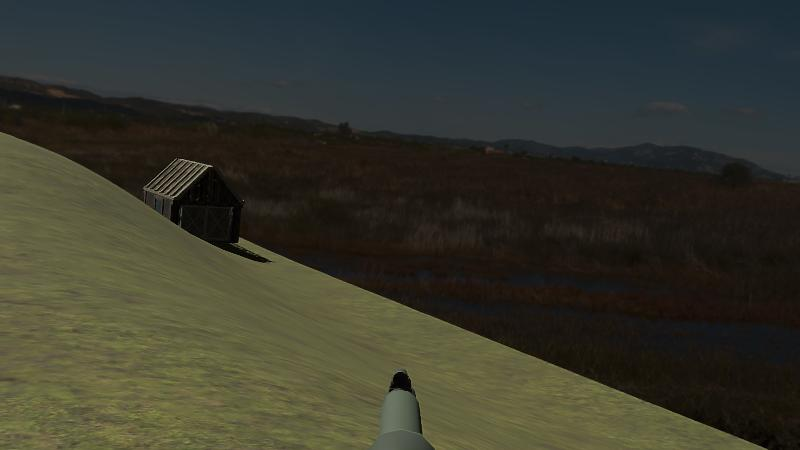House: (141, 157, 244, 248)
